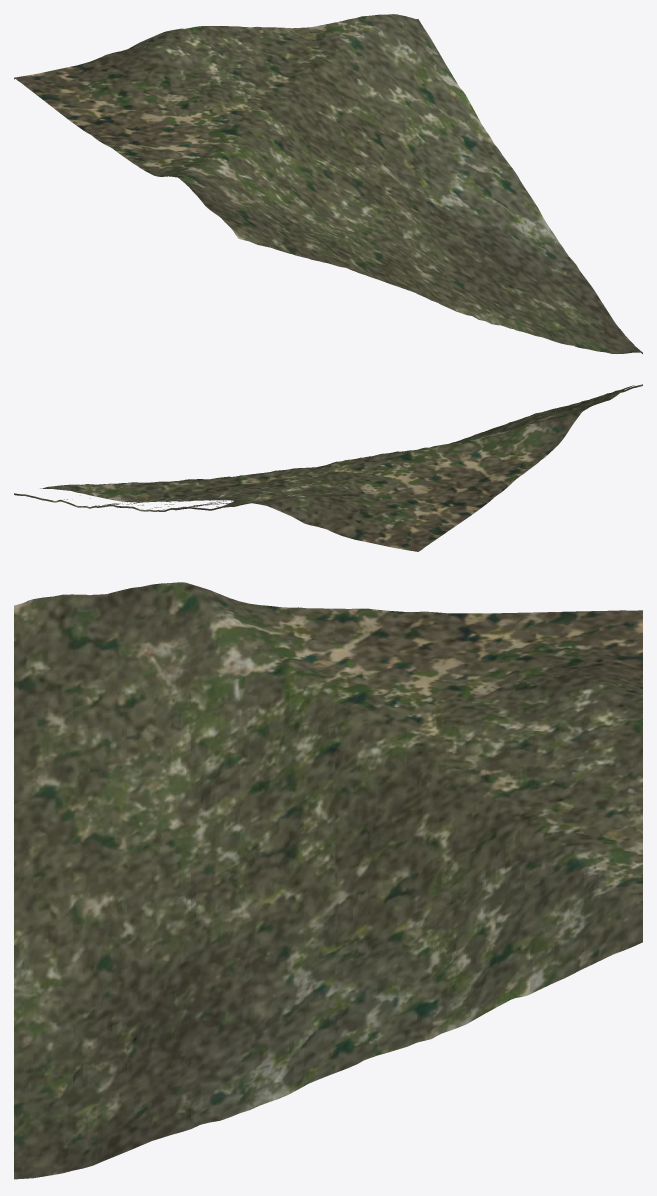
The picture shows the model from 3 angles, top to bottom: view 1: azimuth 30°, elevation 25°; view 2: azimuth 150°, elevation 25°; view 3: azimuth 270°, elevation 25°; orthographic projection. The views are drawn at different scales.
Size of the model in its own units: 250 by 137 by 241.
Materials: 1 (1 with a texture image).
